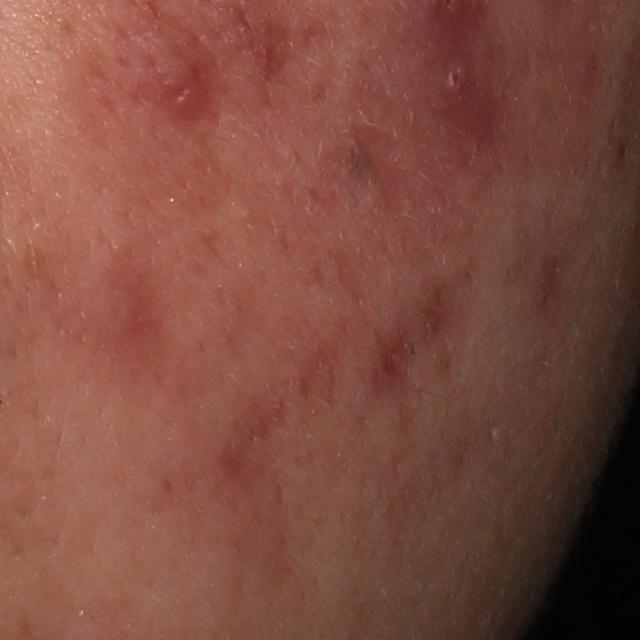papule: (122, 22, 228, 130), (414, 53, 479, 118)
